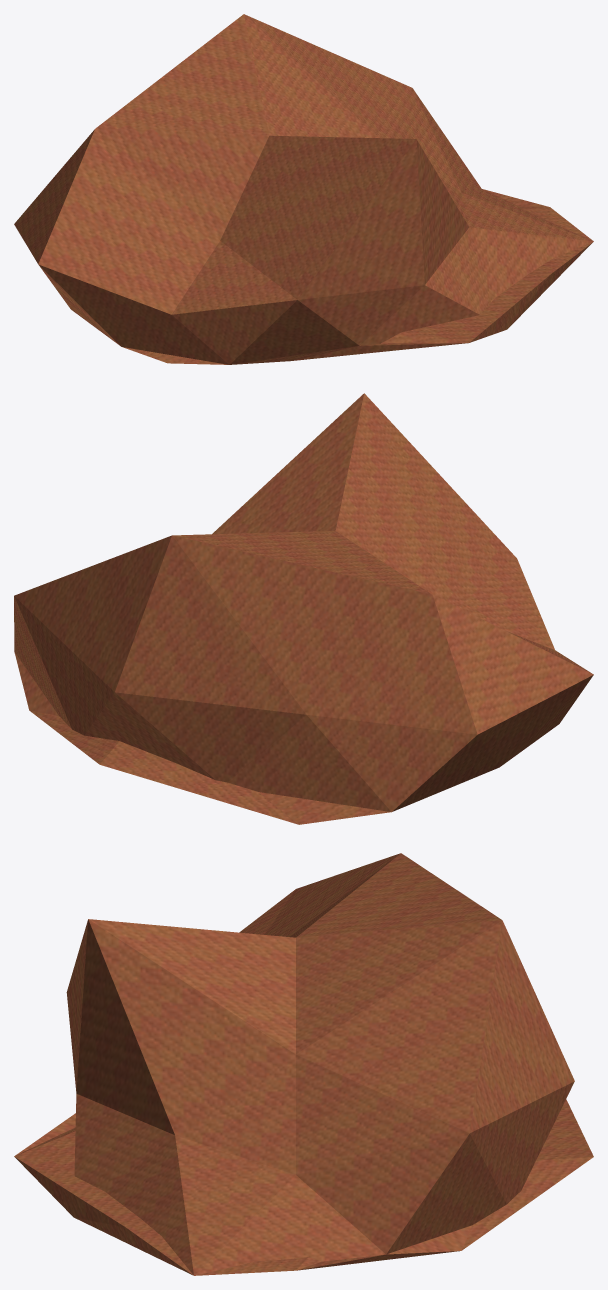
File: rock_small_red_a.dae
3 renders of one model, top to bottom at view 1: azimuth 30°, elevation 25°; view 2: azimuth 150°, elevation 25°; view 3: azimuth 270°, elevation 25°, orthographic. The views are drawn at different scales.
Visible parts, largest first — view 1: rock_mesh; view 2: rock_mesh; view 3: rock_mesh.
Boxes of the visible parts, x1=… form: rock_mesh: x1=14, y1=14, x2=593, y2=364; rock_mesh: x1=14, y1=393, x2=593, y2=824; rock_mesh: x1=14, y1=853, x2=593, y2=1275.
Size of the model in its own units: 0.6094 by 0.496 by 0.2371.
Materials: 1 (1 with a texture image).
